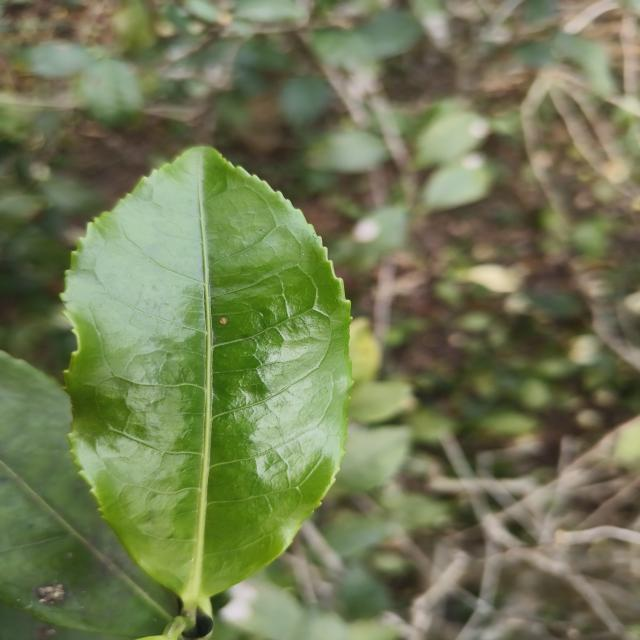Leaf: (63, 148, 350, 617), (0, 352, 178, 640), (335, 426, 410, 493), (78, 58, 143, 124), (416, 111, 488, 167), (423, 153, 492, 210), (309, 129, 388, 173), (351, 206, 408, 262), (348, 381, 416, 423), (312, 28, 373, 69)
